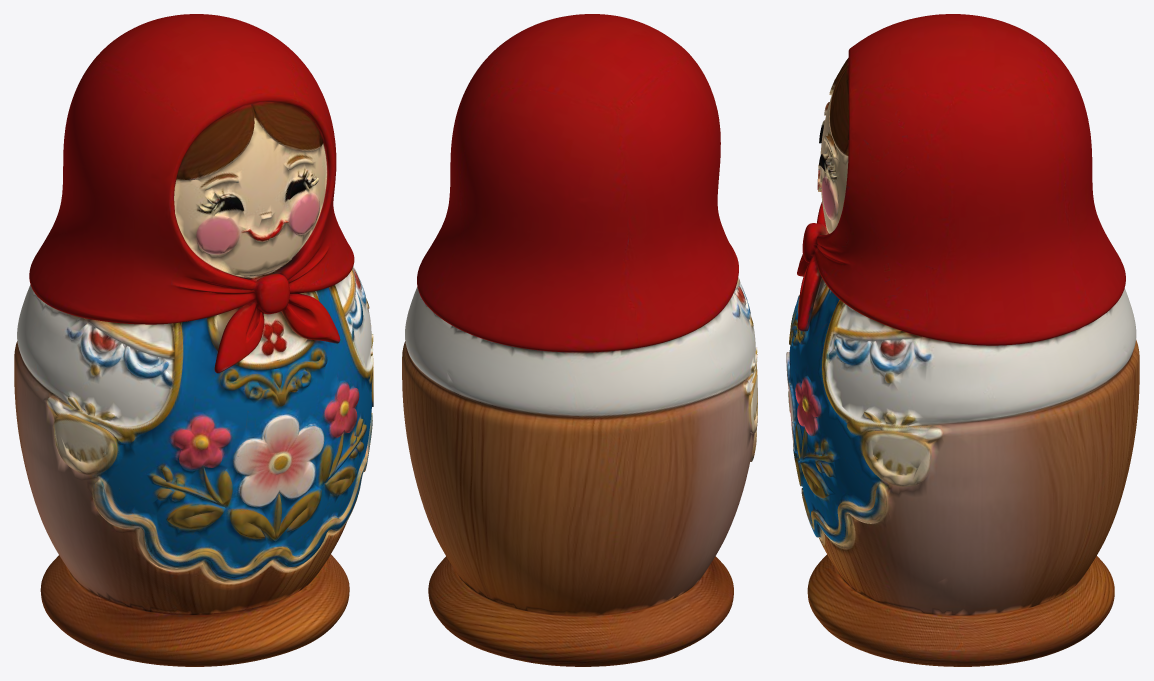
File: matryoshka.glb
3 renders of one model, left to right at view 1: azimuth 30°, elevation 25°; view 2: azimuth 150°, elevation 25°; view 3: azimuth 270°, elevation 25°, orthographic.
Visible parts, largest first — view 1: node_0; view 2: node_0; view 3: node_0.
Part boxes in pixels (x1,y1,x2,y2): node_0: (14, 14, 373, 666); node_0: (402, 14, 757, 666); node_0: (786, 14, 1139, 666).
Bounding box in the file's own units: 0.6219 × 1.09 × 0.6044.
Materials: 1 (1 with a texture image).
